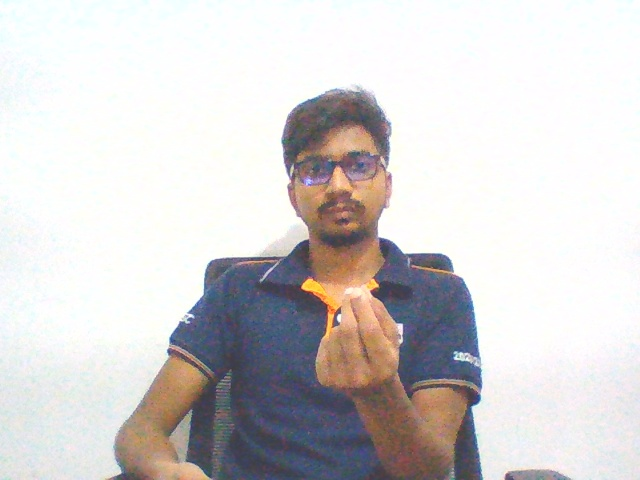dog: (307, 281, 408, 407)
